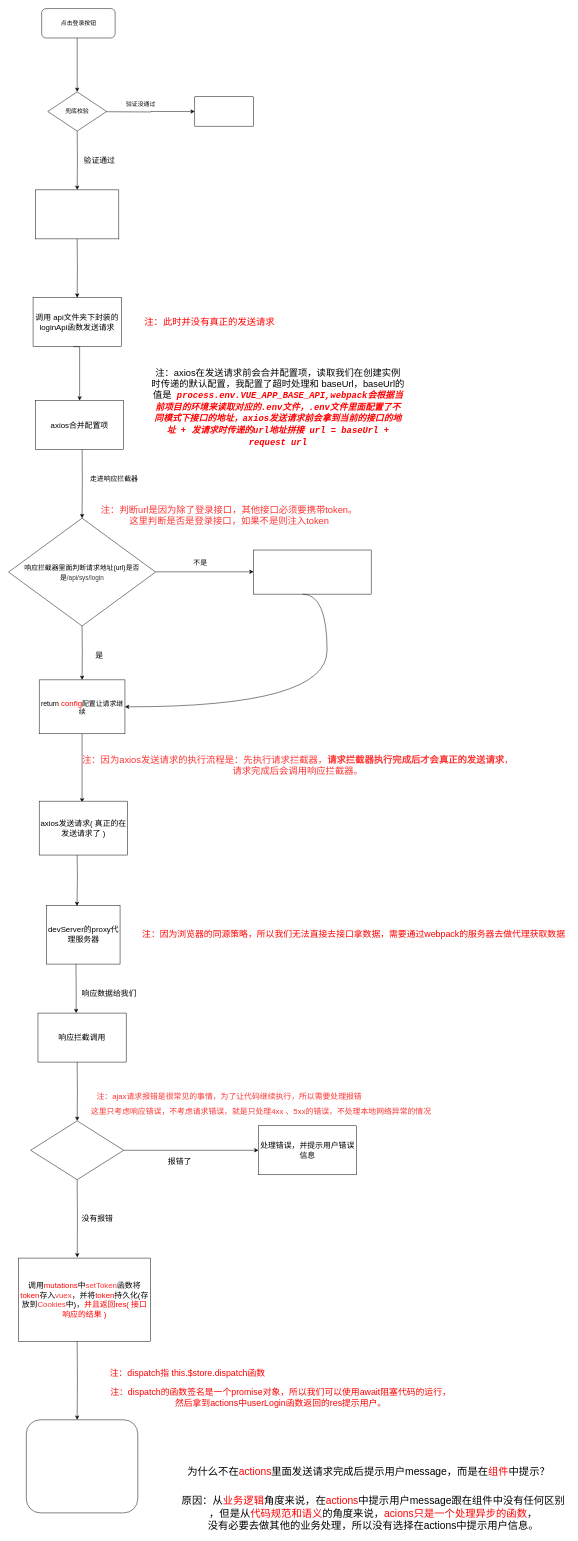
Image size: 578x1541. Some labels were removed from this diagram. Here are the shapes that lost their labels. From the top down, the box of each, then its label:
(194, 96, 254, 126): 直接return结束，趁早滚蛋
(35, 189, 119, 239): dispatch 调用 store 中 user 模块下 actions 对象里面的 userLogin 函数发送请求
(253, 550, 371, 594): 在请求头的headers里面加上token
(30, 1120, 124, 1180): 响应是否报错
(26, 1419, 138, 1513): 拿到 dispatch 函数返回的结果 res ，将 res.message 信息提示给用户
